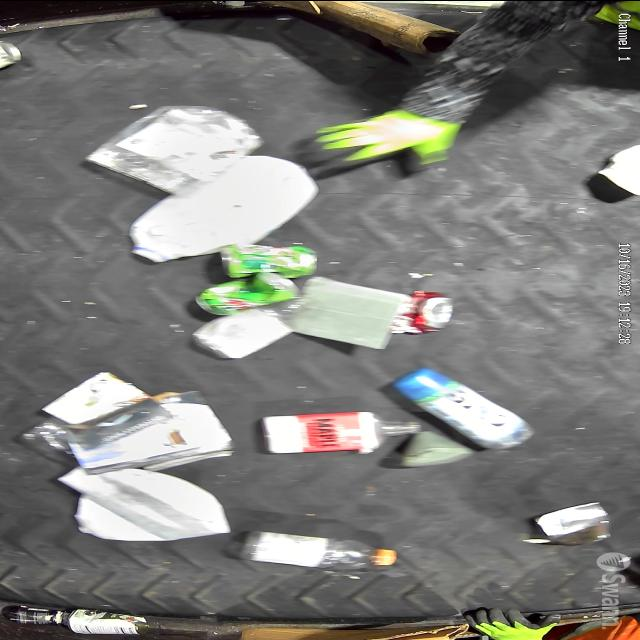can: (195, 270, 302, 318), (218, 240, 322, 280), (532, 501, 614, 546), (392, 290, 456, 336), (65, 608, 151, 635), (0, 39, 24, 70)
milk_jug: (130, 154, 321, 264)
plastic_bottle: (235, 530, 404, 570)
